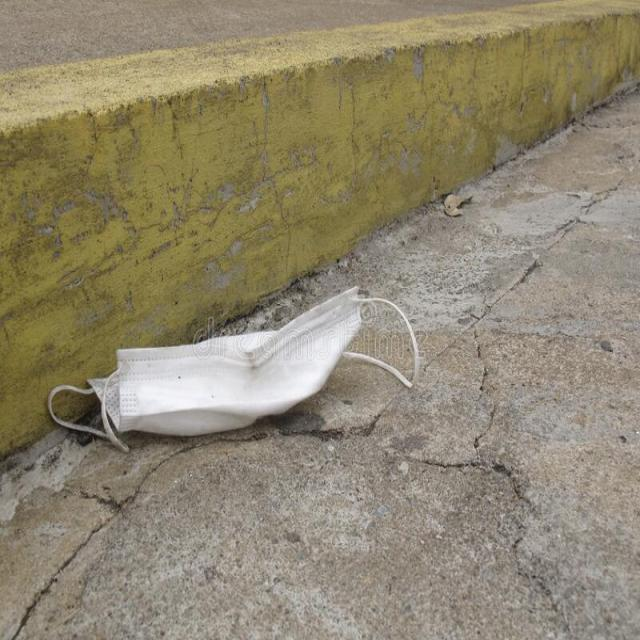non-organic waste: (49, 282, 422, 450)
